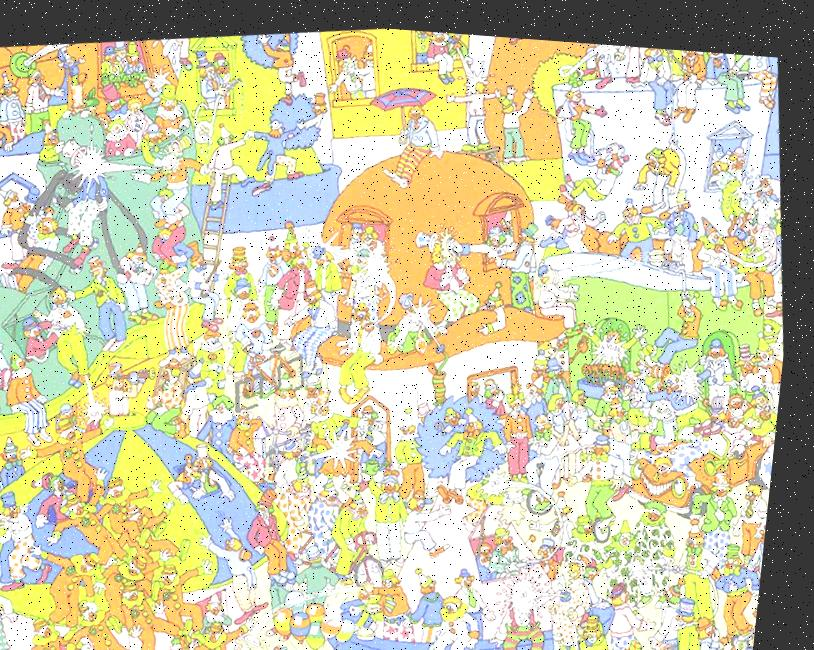waldo: (666, 628, 691, 650)
